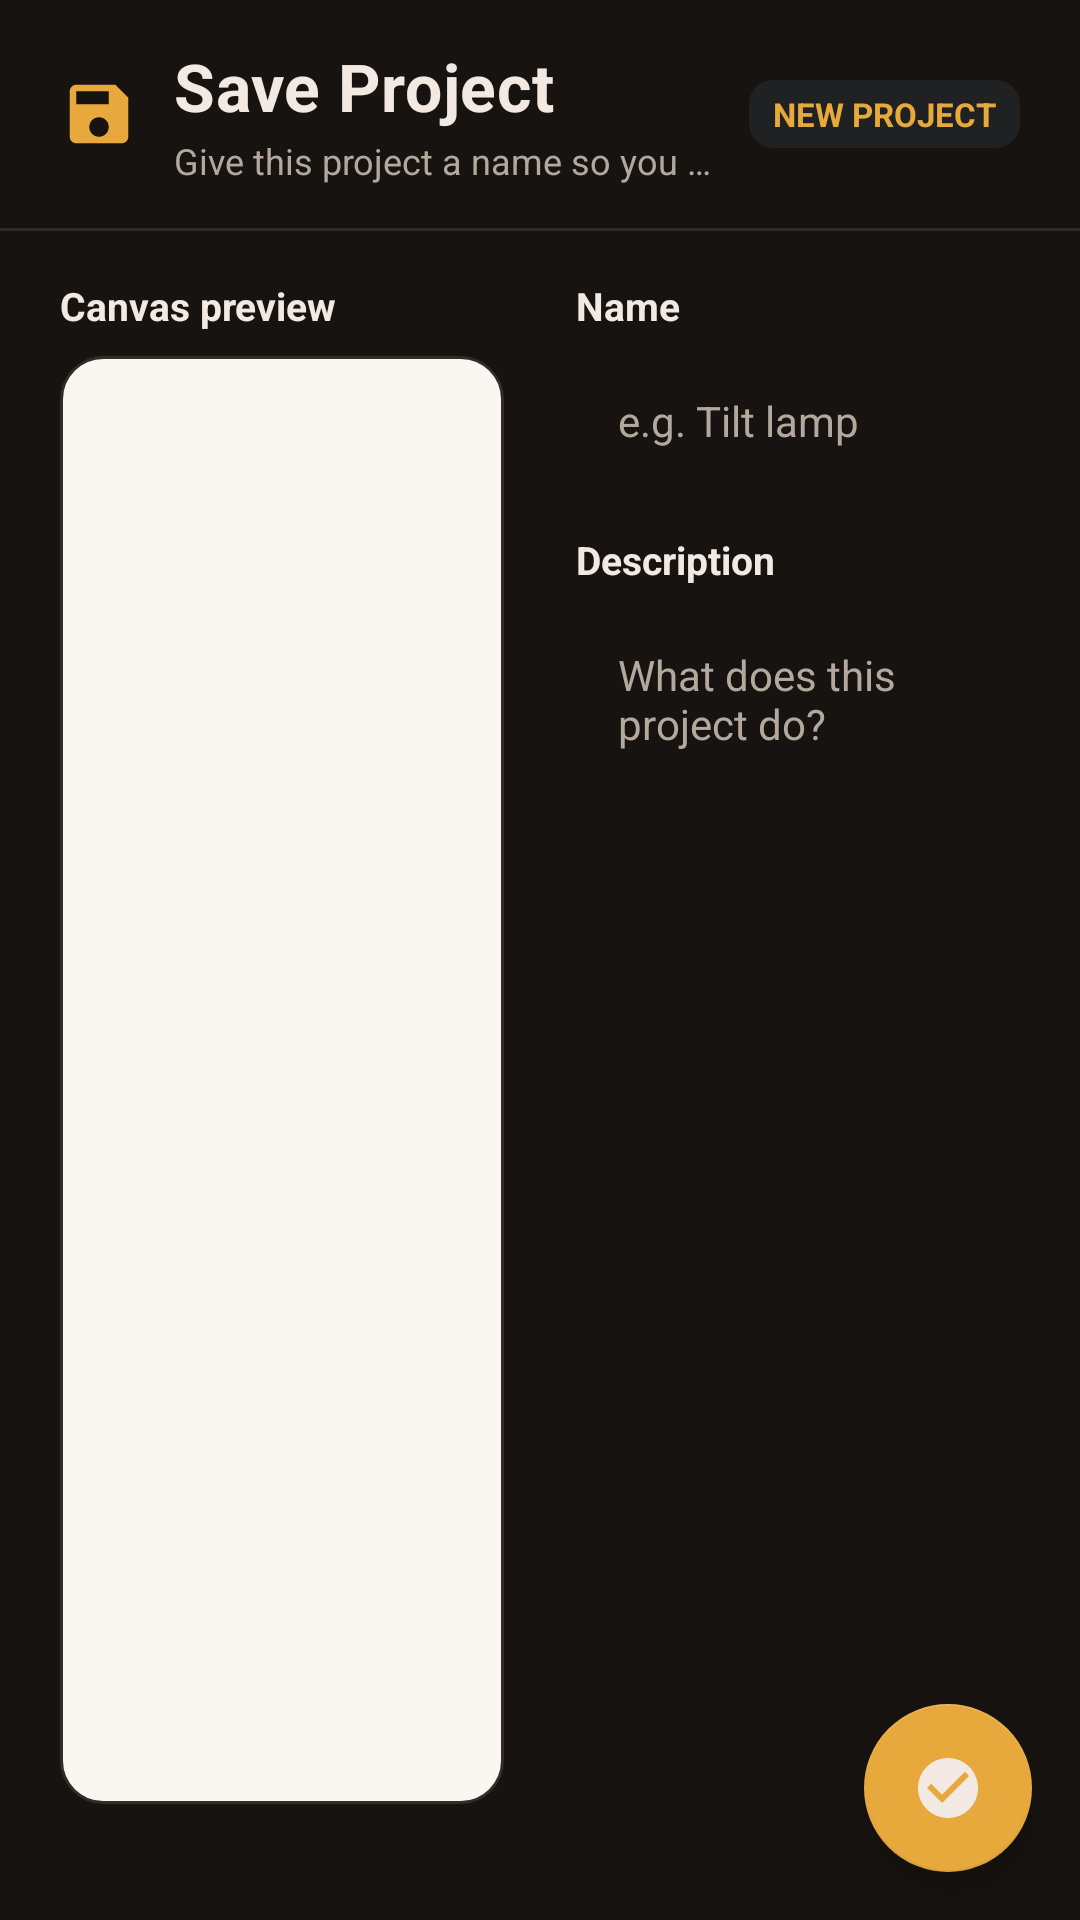

Icons on this 1080w x 1920h Android screen, each with its box as (x1, y1, x2, y2):
Save this project: (864, 1704, 1032, 1872)
